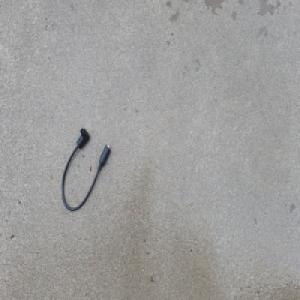Wire: (60, 125, 112, 213)
